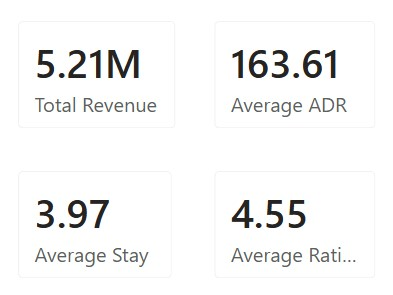

Layout of this report page (visuals, bound fields, positions):
{"tool":"powerbi","page":{"name":"Tooltip","canvas":[320,240],"ordinal":2},"visuals":[{"type":"cardVisual","fields":{"Data":["Bookings.Total Revenue"]},"box":[0,0,160,120],"z":0},{"type":"cardVisual","fields":{"Data":["Bookings.Average ADR"]},"box":[157,0,163,120],"z":1},{"type":"cardVisual","fields":{"Data":["Bookings.Average Stay"]},"box":[0,120,157,120],"z":2},{"type":"cardVisual","fields":{"Data":["Bookings.Average Rating"]},"box":[157,120,163,120],"z":3}]}

Visuals, with their boxes in screenshot pixels (x1, y1, x2, y2), scaled from the page's 320x240 canvas onto the 393x295 screenshot:
cardVisual - Bookings.Total Revenue: [x1=0, y1=0, x2=196, y2=148]
cardVisual - Bookings.Average ADR: [x1=193, y1=0, x2=392, y2=148]
cardVisual - Bookings.Average Stay: [x1=0, y1=148, x2=193, y2=294]
cardVisual - Bookings.Average Rating: [x1=193, y1=148, x2=392, y2=294]
